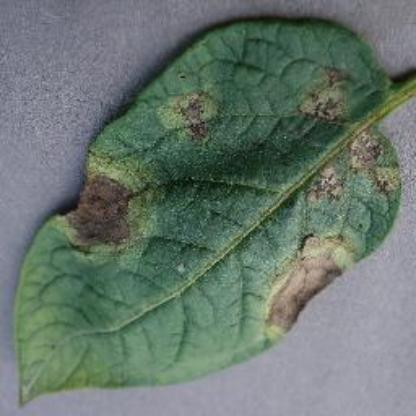Late-Blight: (11, 8, 415, 410)
